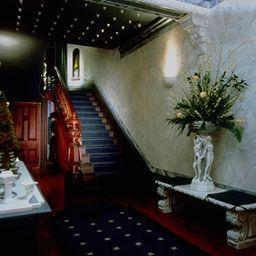Escaleras: (52, 73, 142, 194)
Matera: (165, 77, 242, 193)
Puerta: (12, 102, 41, 168)
